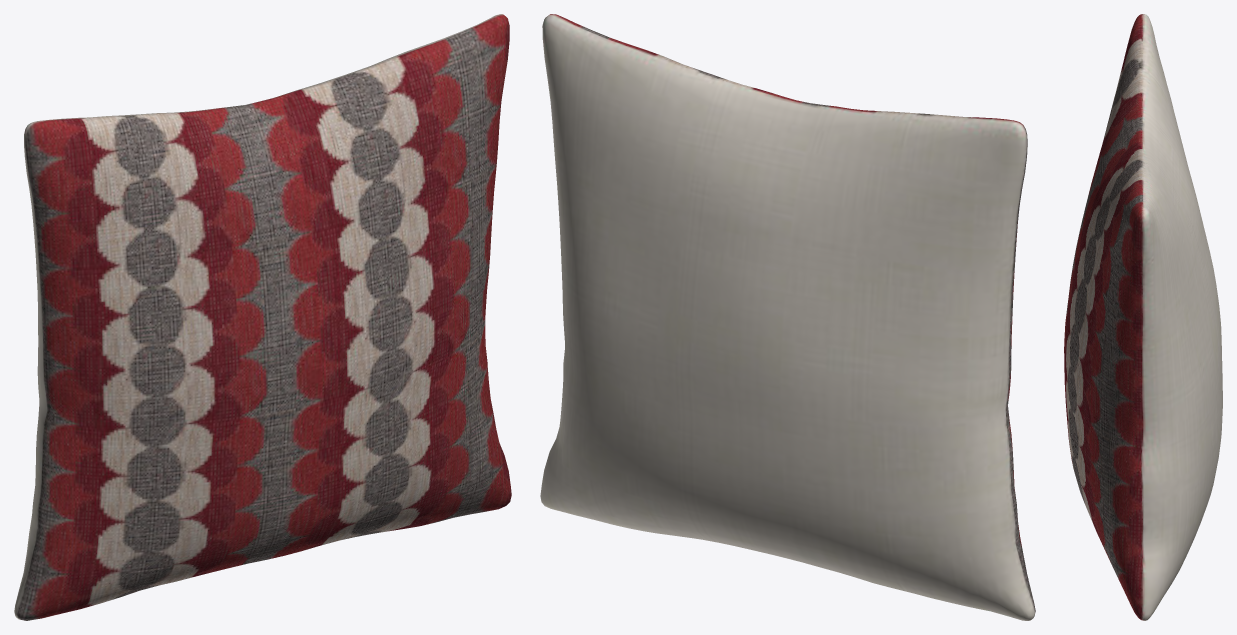
The model's file is B07C8WYFN6.glb.
3 views of the same model, side by side, from view 1: azimuth 30°, elevation 25°; view 2: azimuth 150°, elevation 25°; view 3: azimuth 270°, elevation 25° (orthographic). The views are drawn at different scales.
Parts seen in each view (by area): view 1: RootNode; view 2: RootNode; view 3: RootNode.
Part boxes in pixels (x1,y1,x2,y2): RootNode: (14,14,511,620); RootNode: (540,14,1035,620); RootNode: (1064,14,1222,620).
Size of the model in its own units: 0.4351 by 0.42 by 0.1453.
1 material, 1 textured.
